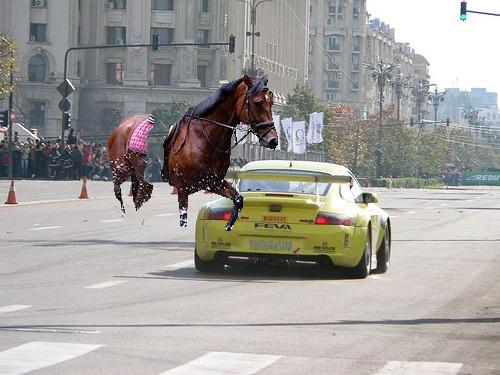tampered: (109, 74, 278, 231)
